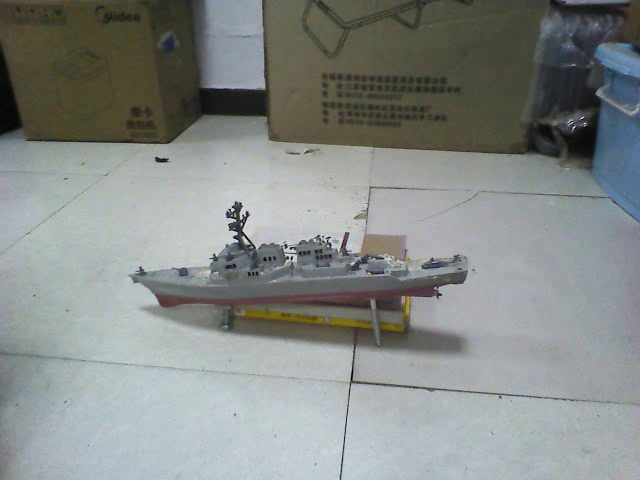warship: (125, 199, 477, 300)
